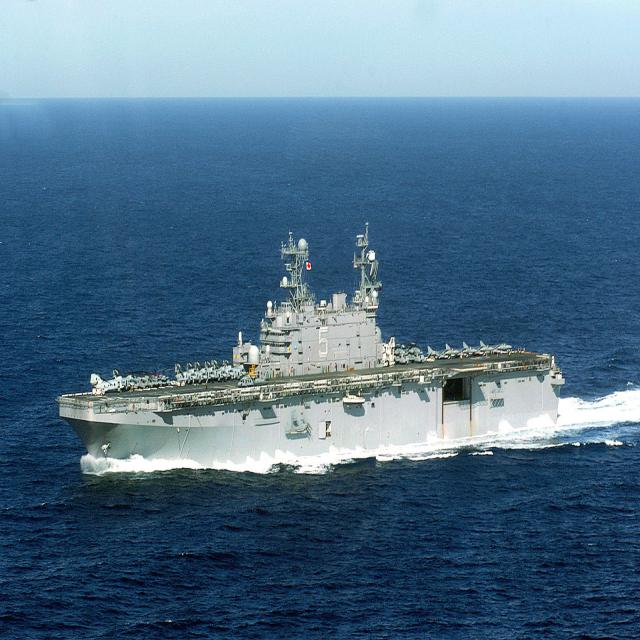navalvessels: (46, 227, 568, 471)
